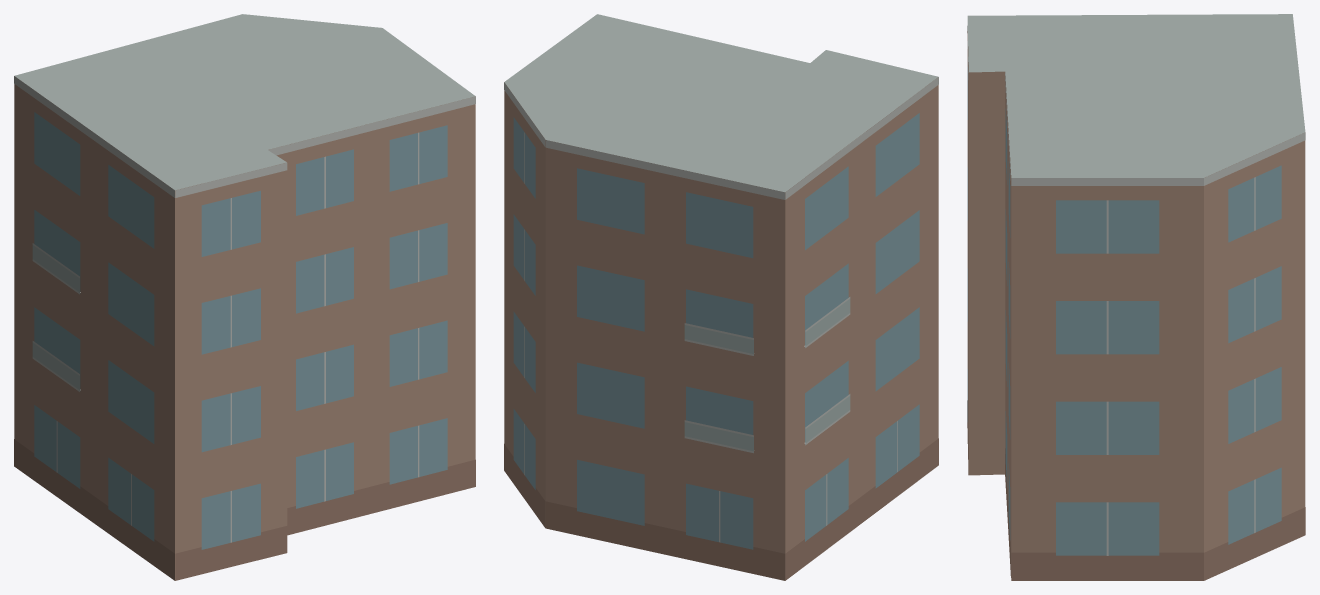
The model's file is survey-upis-32672338.glb.
3 renders of one model, left to right at view 1: azimuth 30°, elevation 25°; view 2: azimuth 150°, elevation 25°; view 3: azimuth 270°, elevation 25°, orthographic. The views are drawn at different scales.
Visible parts, largest first — view 1: survey-upis-32672338.tmp; view 2: survey-upis-32672338.tmp; view 3: survey-upis-32672338.tmp.
Boxes of the visible parts, x1,y1,x2,y2 form: survey-upis-32672338.tmp: (14,14,475,580); survey-upis-32672338.tmp: (504,14,938,580); survey-upis-32672338.tmp: (967,14,1305,580).
Bounding box in the file's own units: 10.67 × 12.2 × 9.29.
